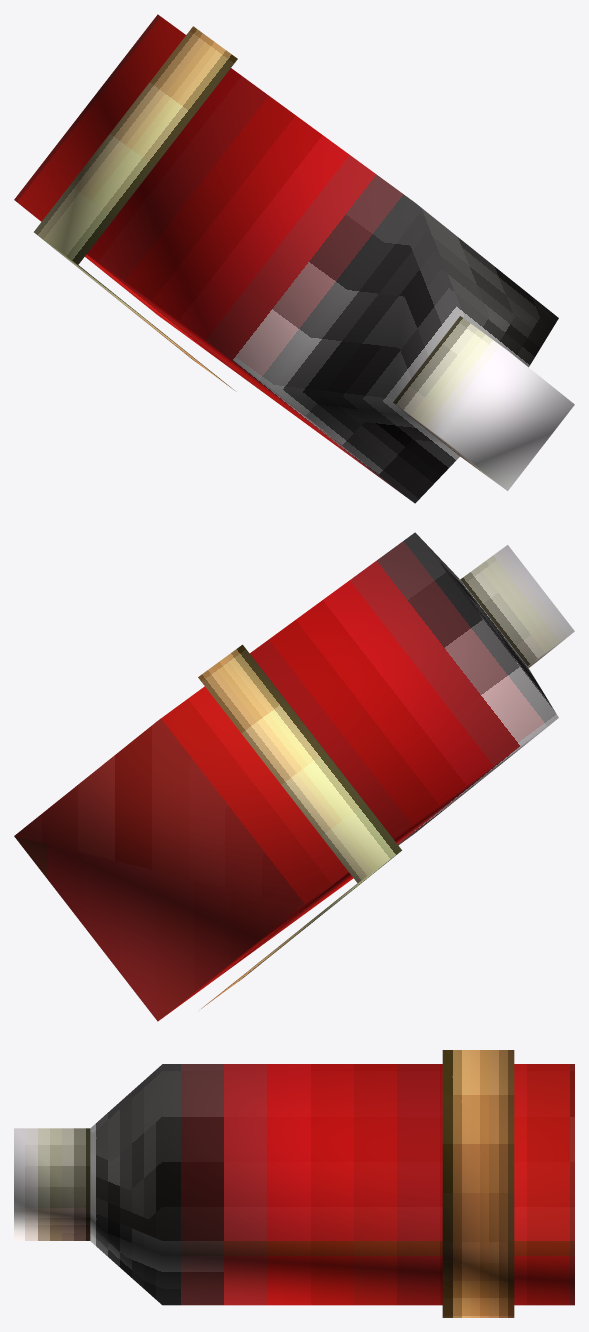
File: Potion03.glb
3 renders of one model, top to bottom at view 1: azimuth 30°, elevation 25°; view 2: azimuth 150°, elevation 25°; view 3: azimuth 270°, elevation 25°, orthographic. The views are drawn at different scales.
Visible parts, largest first — view 1: model_Potion03; view 2: model_Potion03; view 3: model_Potion03.
Part boxes in pixels (x1=…): model_Potion03: x1=14, y1=14, x2=574, y2=503; model_Potion03: x1=14, y1=532, x2=574, y2=1021; model_Potion03: x1=14, y1=1050, x2=574, y2=1317.
Size of the model in its own units: 0.1627 by 0.1627 by 0.309.
2 materials, 2 textured.
